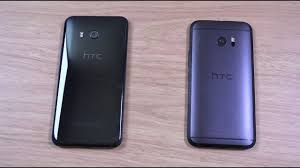htc: (50, 13, 131, 149), (183, 16, 257, 152)
